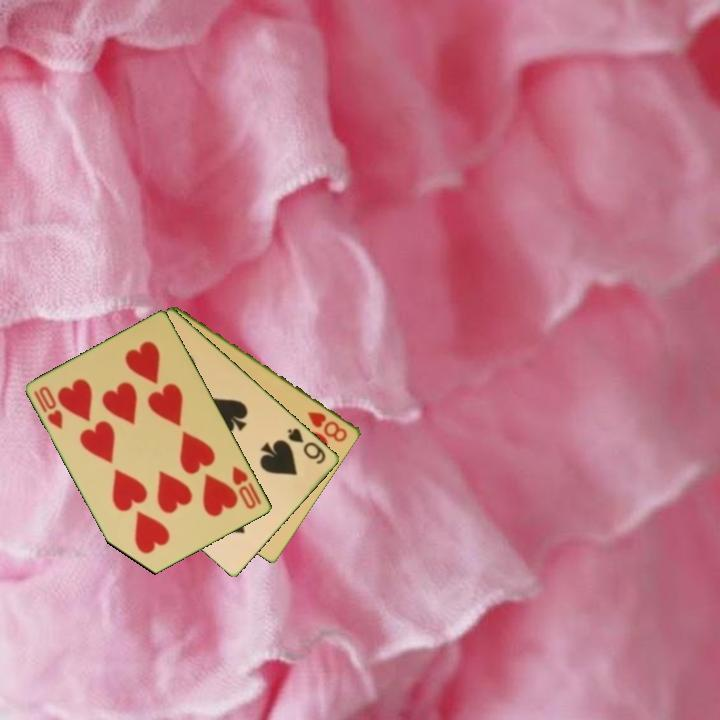10h: (30, 383, 66, 433), (229, 462, 260, 512)
6s: (284, 424, 329, 467)
8h: (304, 408, 351, 445)
